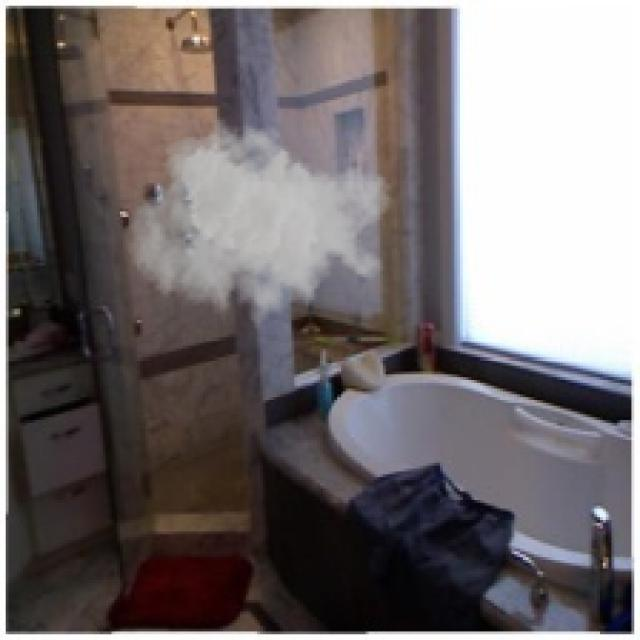smoke: (129, 117, 394, 340)
